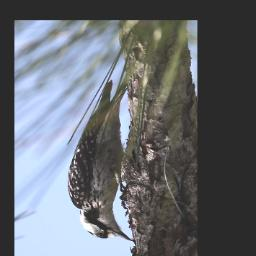Woodpecker: (61, 72, 140, 250)
